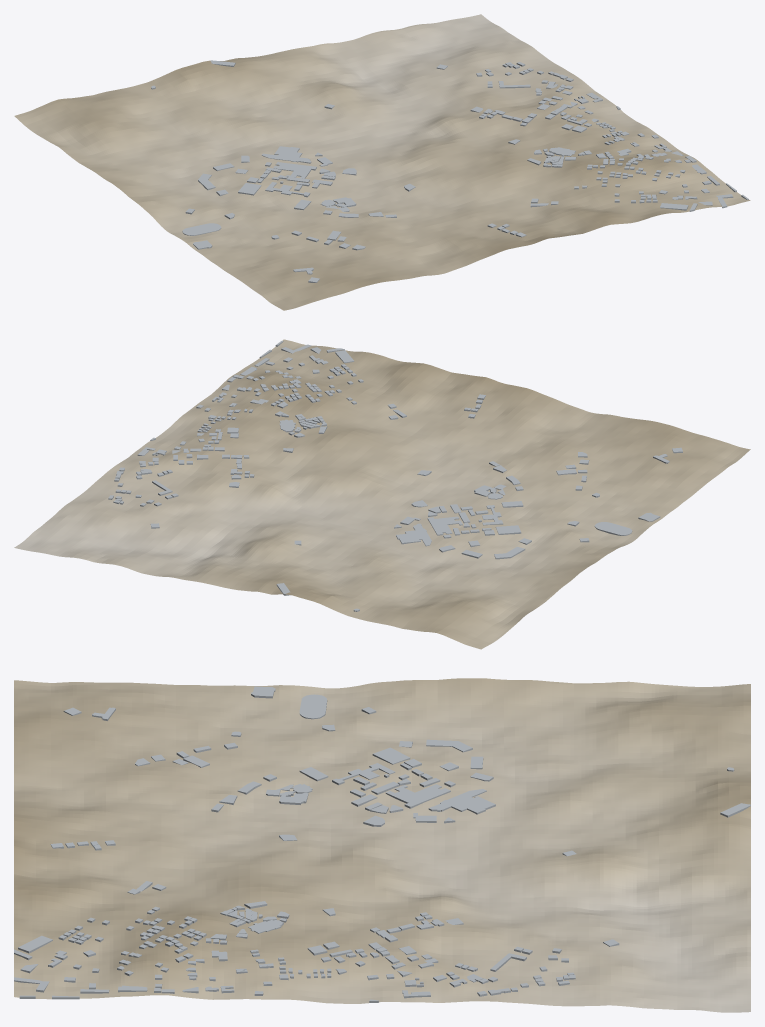
3 views of the same model, one above another, from view 1: azimuth 30°, elevation 25°; view 2: azimuth 150°, elevation 25°; view 3: azimuth 270°, elevation 25° (orthographic). The views are drawn at different scales.
Parts seen in each view (by area): view 1: terrain, buildings; view 2: terrain, buildings; view 3: terrain, buildings.
Boxes of the visible parts, left/top/right/bottom form: terrain: left=14, top=14, right=750, bottom=310; buildings: left=151, top=60, right=748, bottom=282; terrain: left=14, top=339, right=750, bottom=649; buildings: left=108, top=341, right=682, bottom=611; terrain: left=14, top=678, right=750, bottom=1012; buildings: left=14, top=686, right=750, bottom=1002.
Bounding box in the file's own units: 2000 × 94.2 × 2000.
